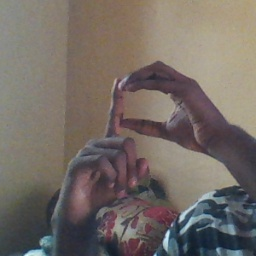P: (73, 60, 209, 188)
